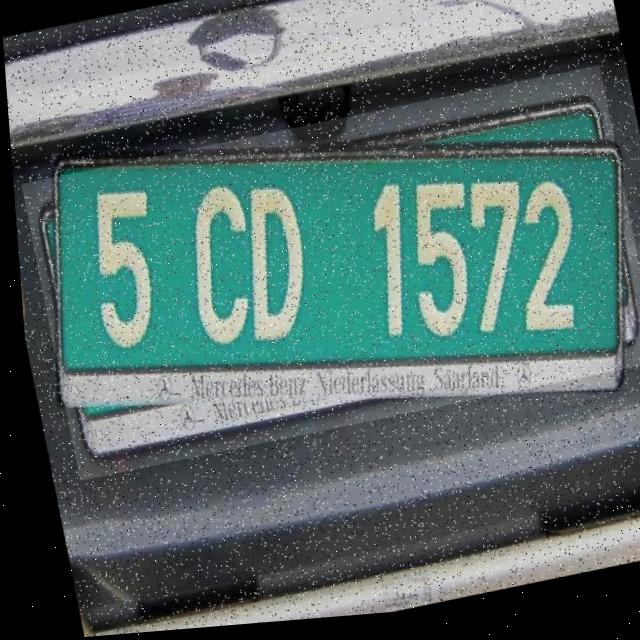LicensePlate: (14, 72, 640, 483)
